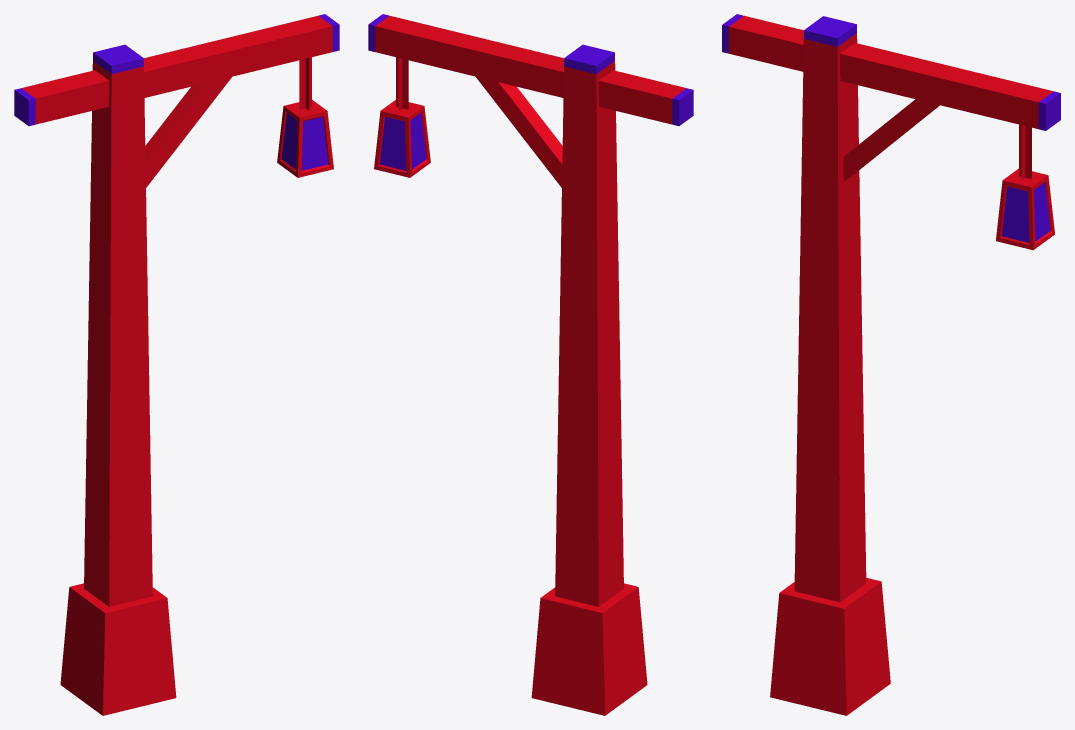
The model's file is lantern_high.fbx.
The picture shows the model from 3 angles, left to right: view 1: azimuth 30°, elevation 25°; view 2: azimuth 150°, elevation 25°; view 3: azimuth 330°, elevation 25°; orthographic projection. The views are drawn at different scales.
Parts seen in each view (by area): view 1: Lantern_High; view 2: Lantern_High; view 3: Lantern_High.
Boxes of the visible parts, x1,y1,x2,y2 form: Lantern_High: [14, 14, 339, 715]; Lantern_High: [368, 14, 693, 715]; Lantern_High: [722, 14, 1060, 715].
Size of the model in its own units: 138 by 270 by 32.6.
